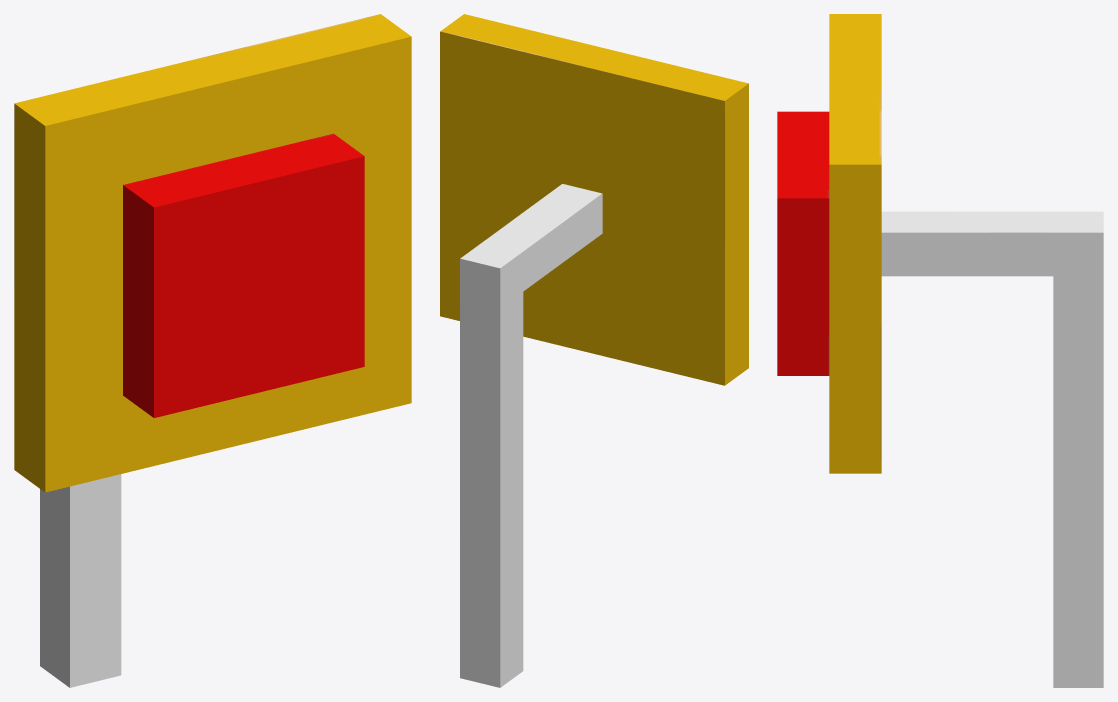
The model's file is RampButton.fbx.
3 renders of one model, left to right at view 1: azimuth 30°, elevation 25°; view 2: azimuth 150°, elevation 25°; view 3: azimuth 270°, elevation 25°, orthographic. The views are drawn at different scales.
Parts seen in each view (by area): view 1: Cube; view 2: Cube; view 3: Cube.
Part boxes in pixels (box(x1,y1,x2,y2)): Cube: box(14, 14, 411, 687); Cube: box(440, 14, 748, 687); Cube: box(777, 14, 1103, 687).
Bounding box in the file's own units: 284 × 517 × 260.
